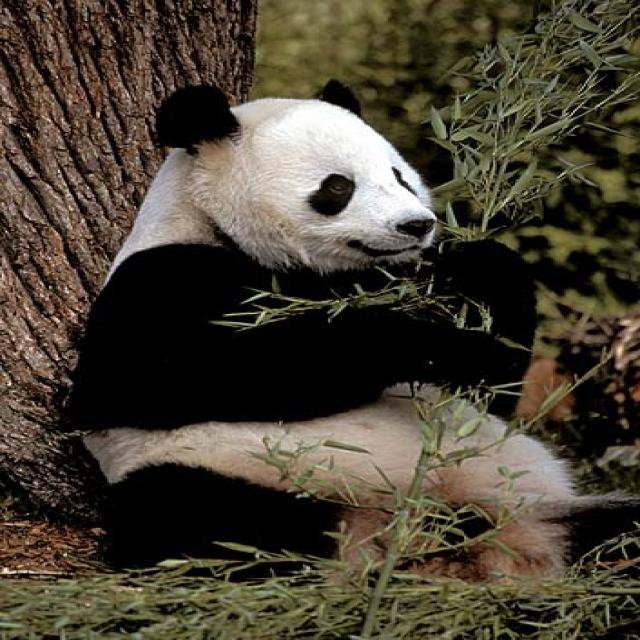Herbivorous: (73, 80, 620, 582)
